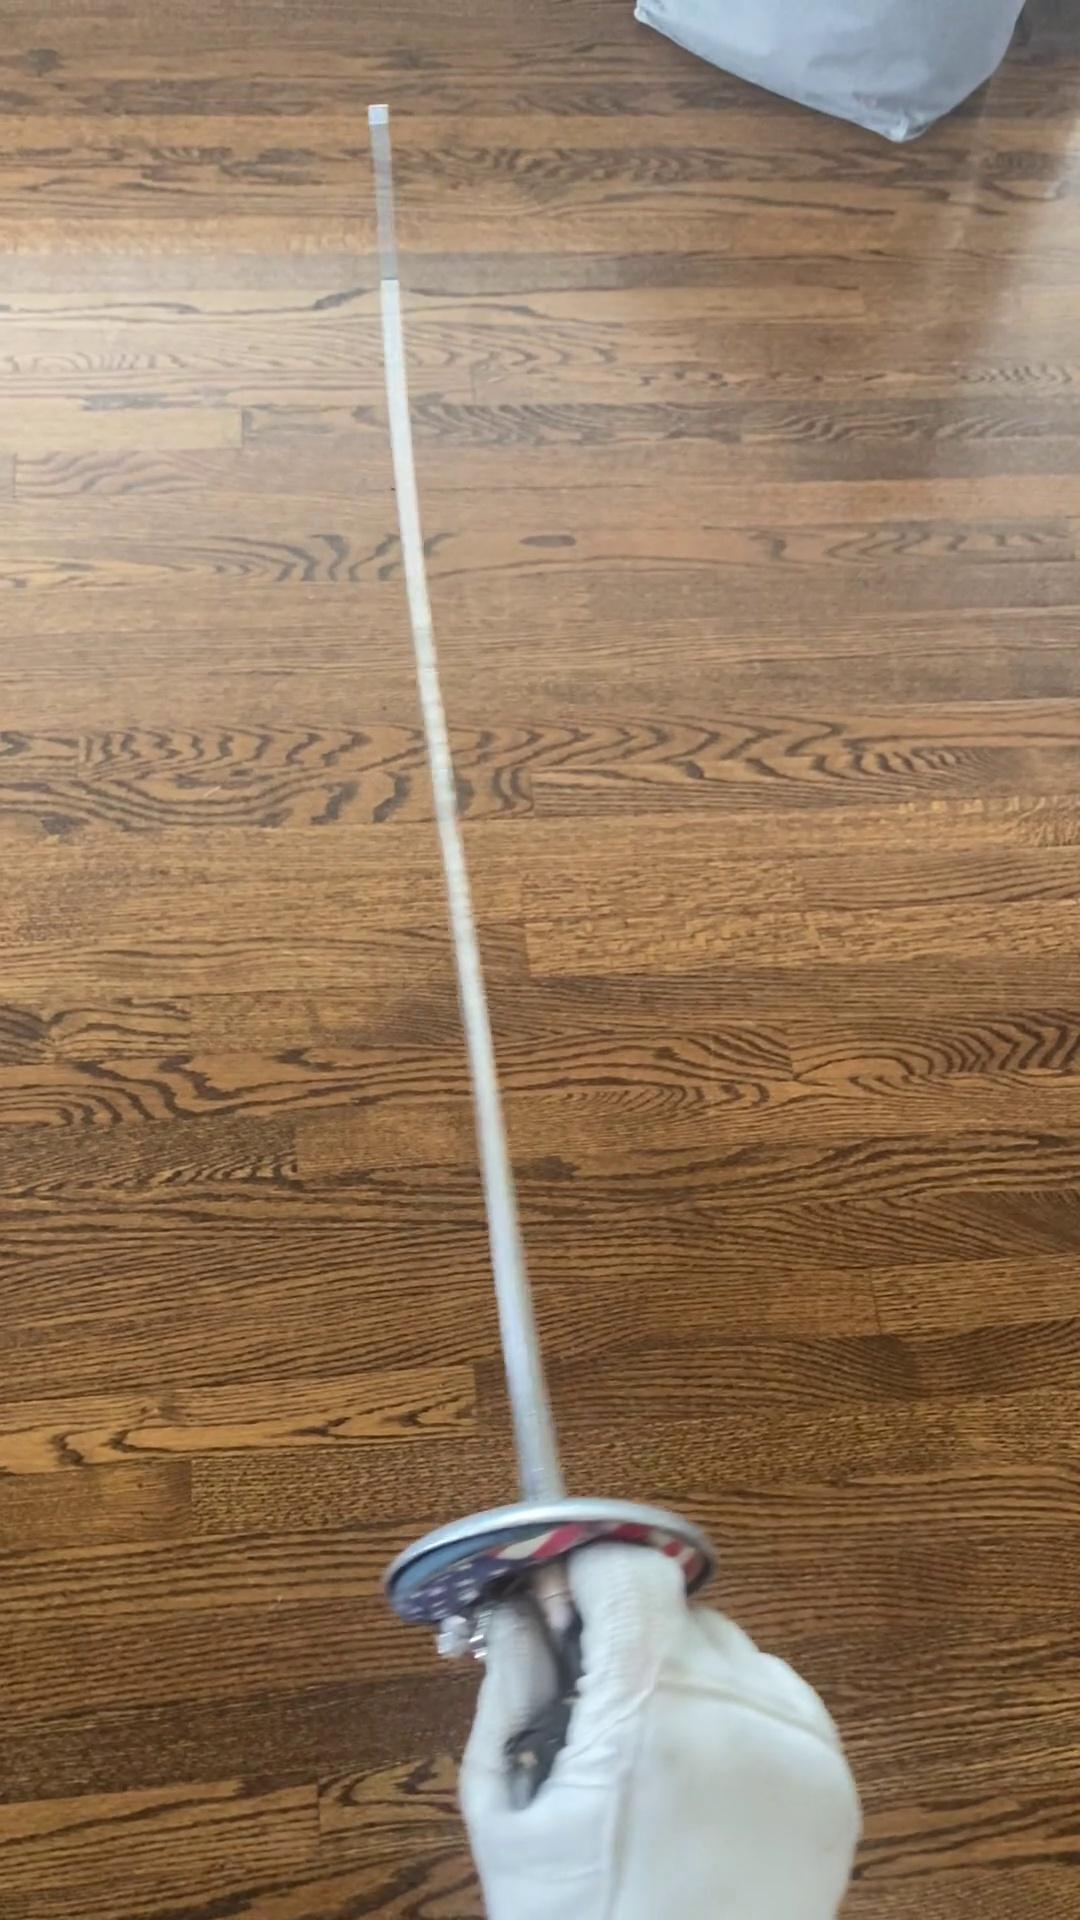blade-guard: (371, 1484, 731, 1677)
blade-tip: (367, 96, 410, 295)
fencing-blade: (363, 51, 733, 1844)
